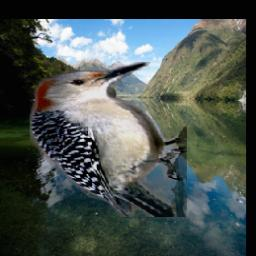Woodpecker: (31, 63, 188, 218)
